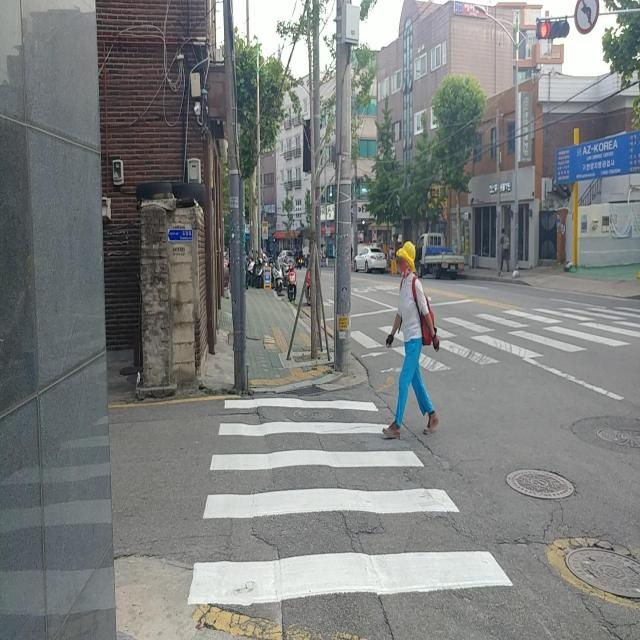횡단보도: (186, 396, 514, 608), (350, 301, 640, 380)
